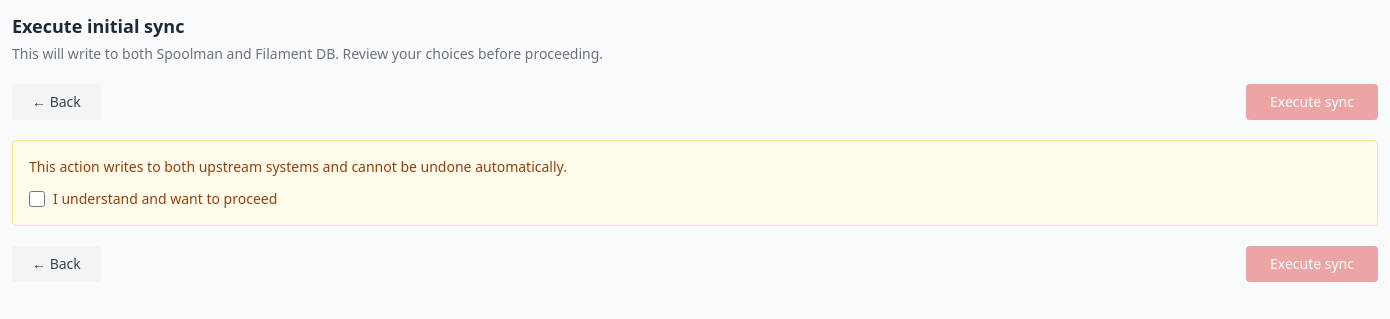
Test: Step6Execute — result view › shows label fallback (spool ID) when no label is provided in the record
Click the checkbox at (37, 199), box [29, 191, 45, 207]
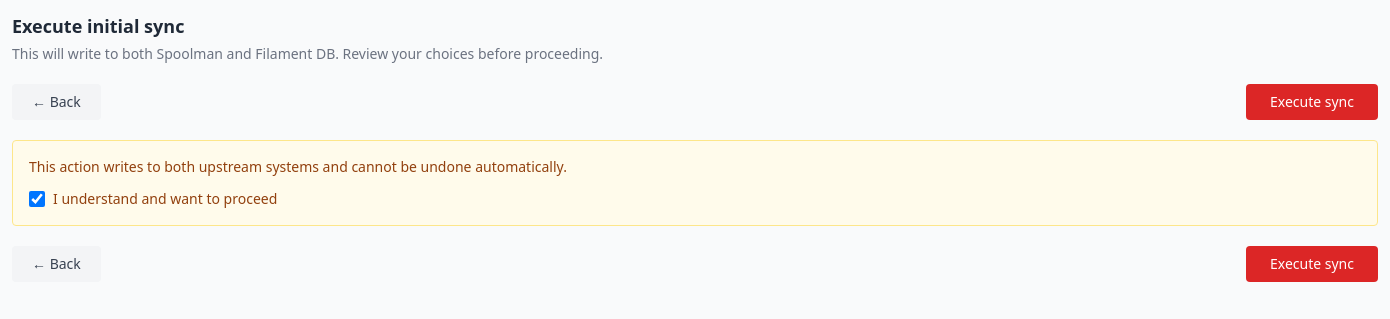
Click the 1st button "Execute sync" at (1312, 102), box [1246, 84, 1378, 120]
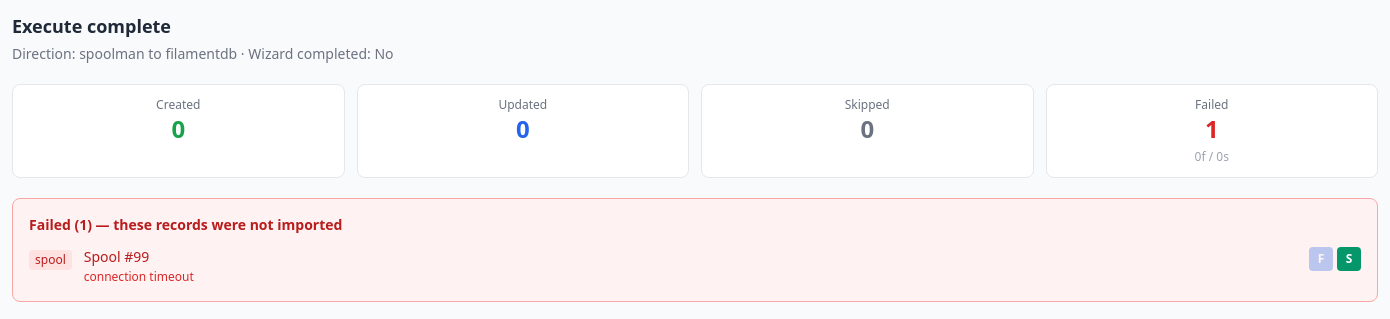
Expected: the text "Spool #99" is shown, [84, 247, 149, 266]
Expected: the text "connection timeout" is shown, [84, 268, 194, 285]
